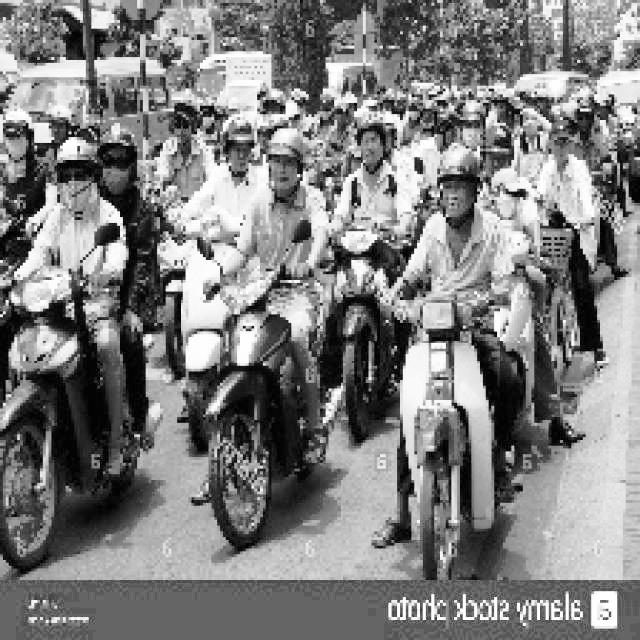Bike: (5, 269, 133, 547), (414, 289, 502, 587), (214, 278, 300, 512), (332, 212, 404, 413), (177, 218, 224, 419)
